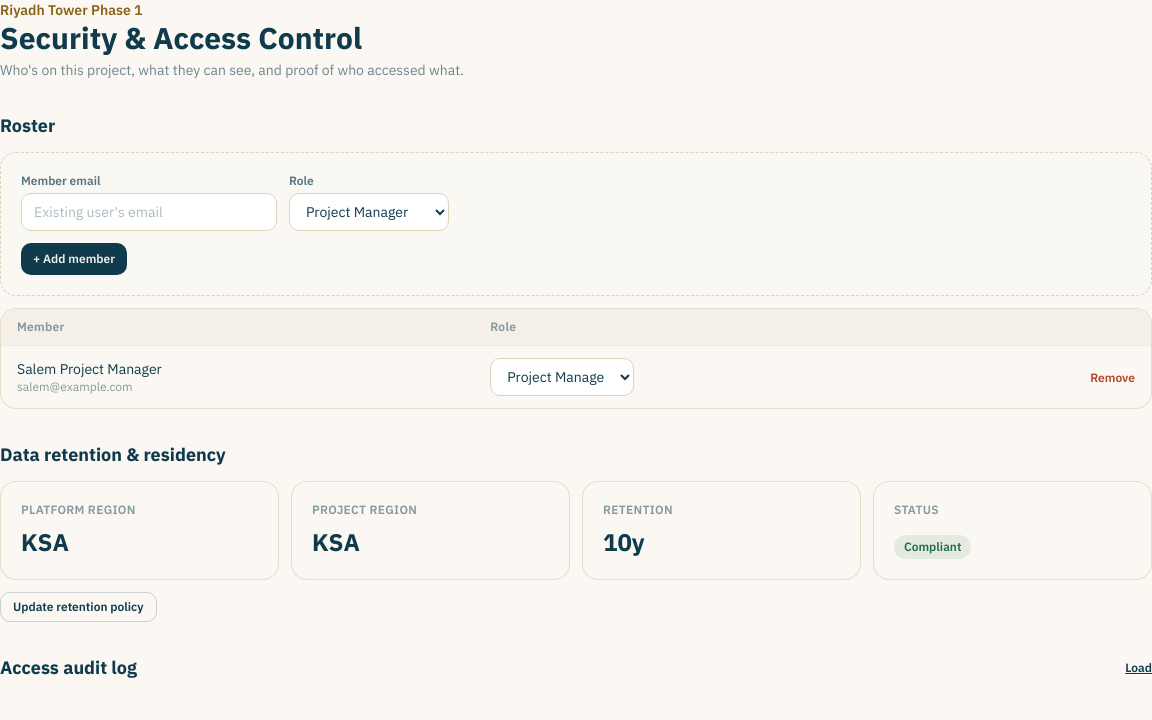
it: AccessControlPage › removes a member only after confirmation in the dialog
Click the button "Remove".
click(1113, 378)  # box [1090, 370, 1135, 386]
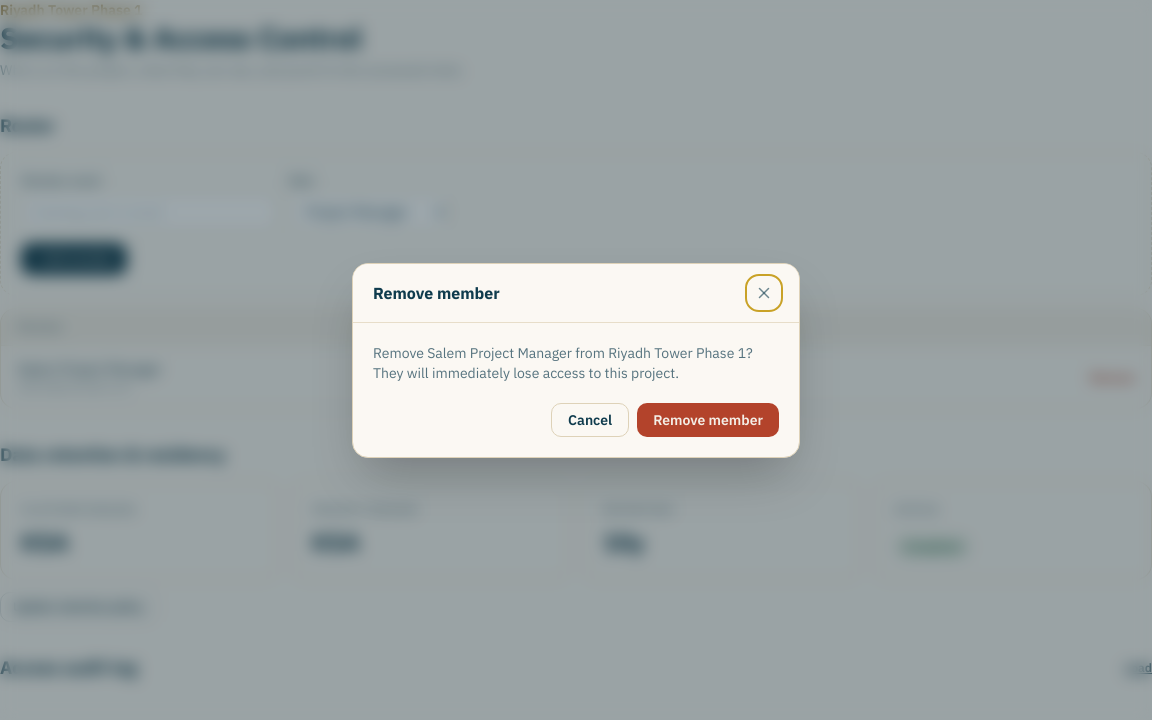
Now the dialog is shown, box [352, 262, 800, 458]
Click the button "Remove member".
click(708, 420)  # box [637, 402, 779, 436]
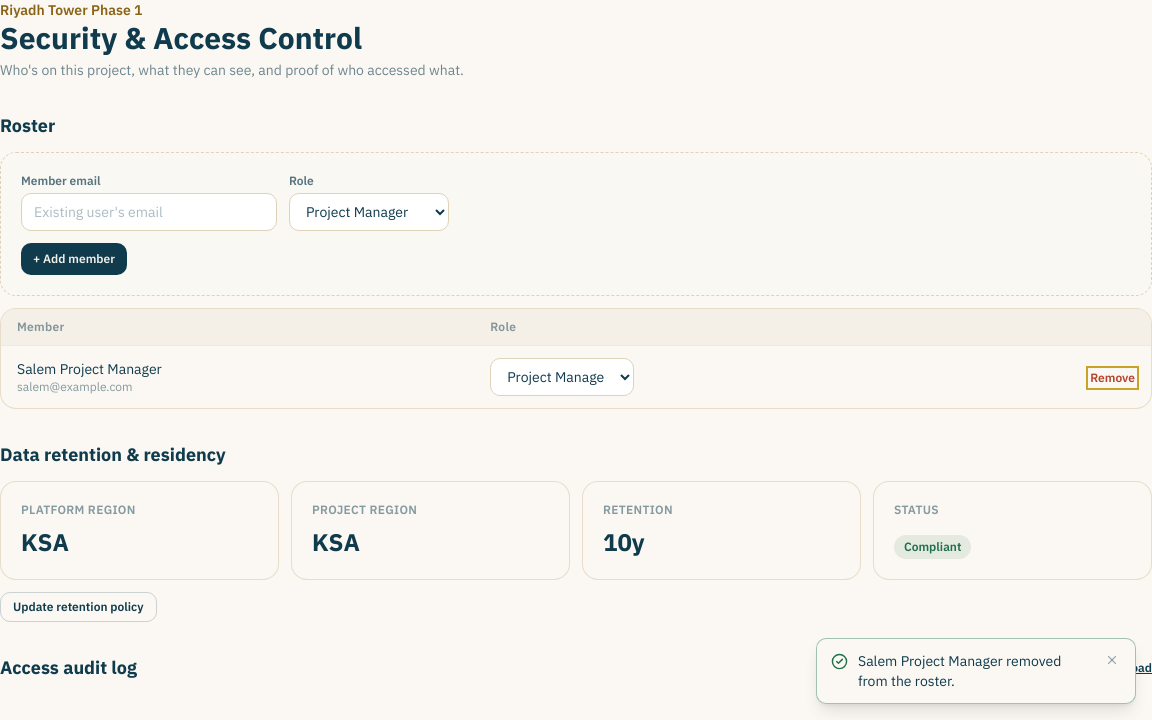
Now the text "Salem Project Manager removed from the roster." is shown, box [858, 651, 1093, 691]
